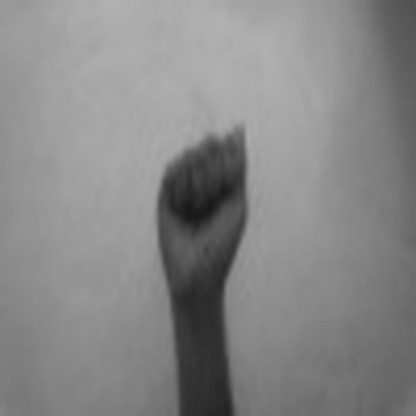a: (143, 109, 253, 301)
